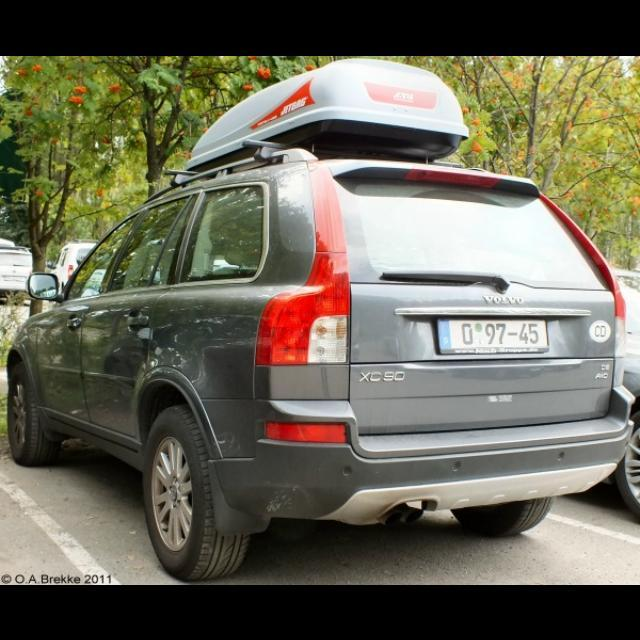license-plates: (439, 320, 549, 354)
